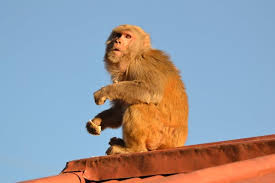monkey: (75, 10, 206, 162)
